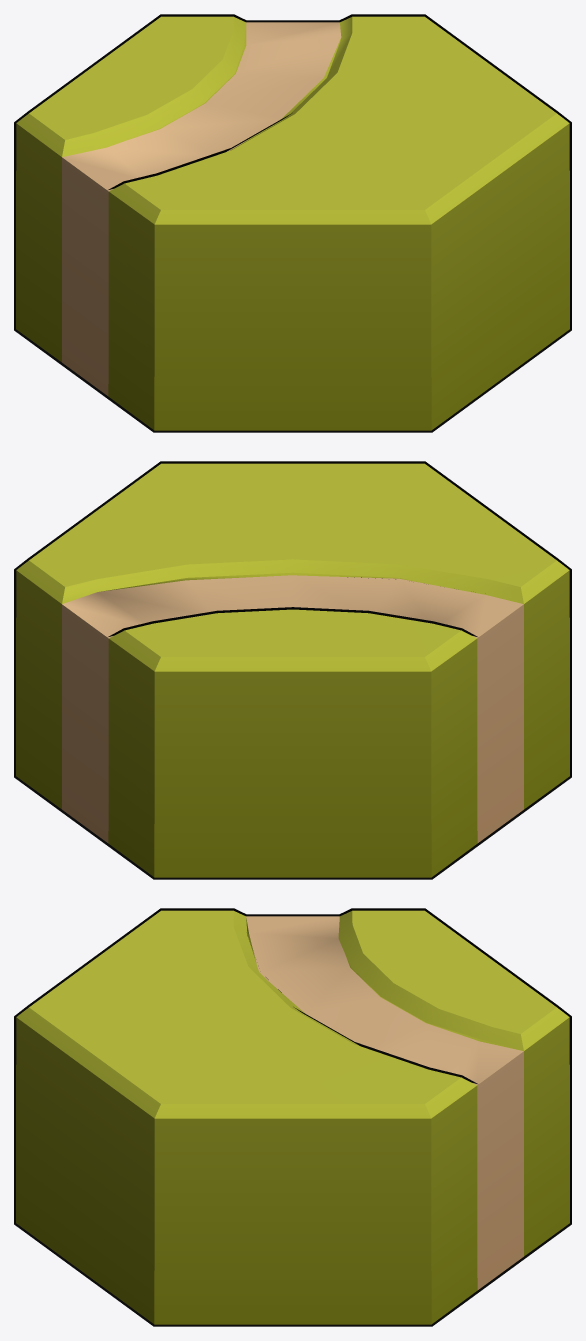
The picture shows the model from 3 angles, top to bottom: view 1: azimuth 30°, elevation 25°; view 2: azimuth 150°, elevation 25°; view 3: azimuth 270°, elevation 25°; orthographic projection.
Parts seen in each view (by area): view 1: hex_road_B; view 2: hex_road_B; view 3: hex_road_B.
Boxes of the visible parts, <box> form: hex_road_B: <box>14,14,571,432</box>; hex_road_B: <box>14,461,571,879</box>; hex_road_B: <box>14,908,571,1326</box>.
Bounding box in the file's own units: 2 × 1 × 2.31.
Materials: 2 (1 with a texture image).
